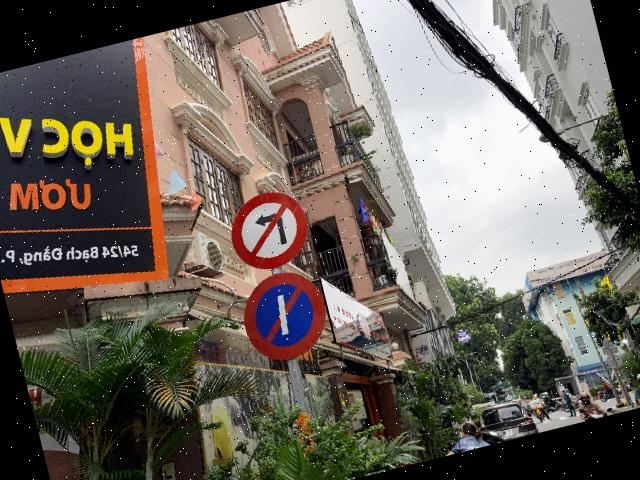cam-do-xe-ngay-le: (234, 263, 336, 369)
cam-re-phai: (222, 184, 316, 276)
